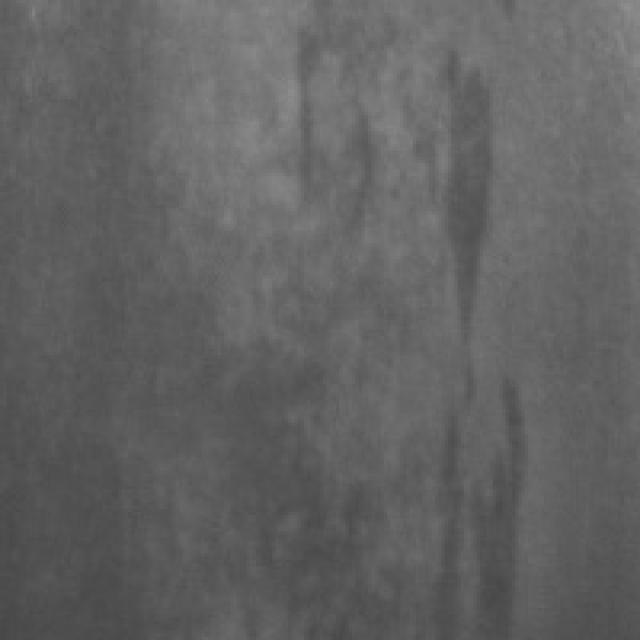inclusion: (396, 29, 489, 387), (419, 358, 531, 630), (272, 22, 374, 246)
